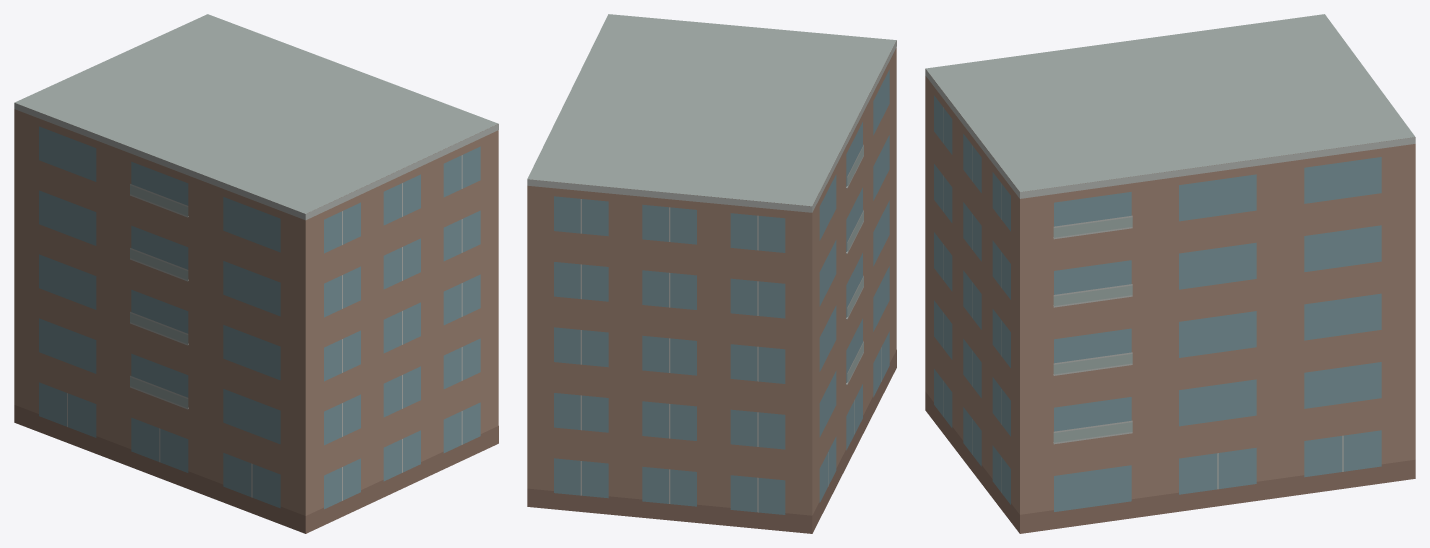
File: survey-upis-32820595.glb
3 renders of one model, left to right at view 1: azimuth 30°, elevation 25°; view 2: azimuth 150°, elevation 25°; view 3: azimuth 270°, elevation 25°, orthographic. The views are drawn at different scales.
Parts seen in each view (by area): view 1: survey-upis-32820595.tmp; view 2: survey-upis-32820595.tmp; view 3: survey-upis-32820595.tmp.
Part boxes in pixels (x1,y1,x2,y2): survey-upis-32820595.tmp: (14, 14, 498, 533); survey-upis-32820595.tmp: (527, 14, 896, 533); survey-upis-32820595.tmp: (925, 14, 1415, 533).
Bounding box in the file's own units: 13.76 × 12.3 × 16.
